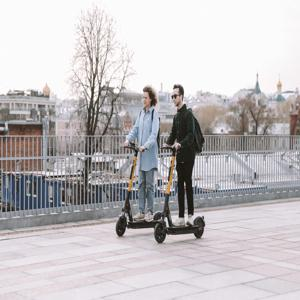human on a scooter: (153, 84, 206, 243), (116, 86, 161, 237)
